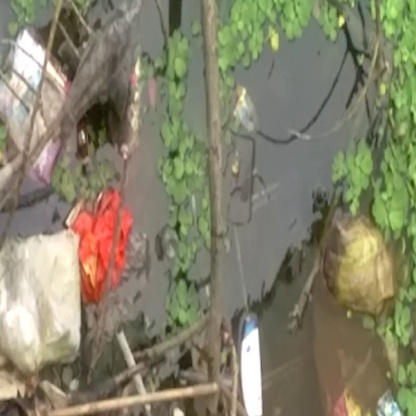bottle: (233, 309, 272, 416)
